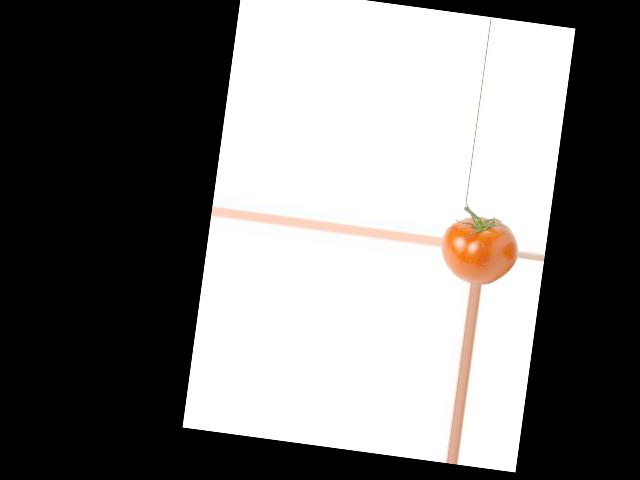tomato: (437, 211, 522, 288)
